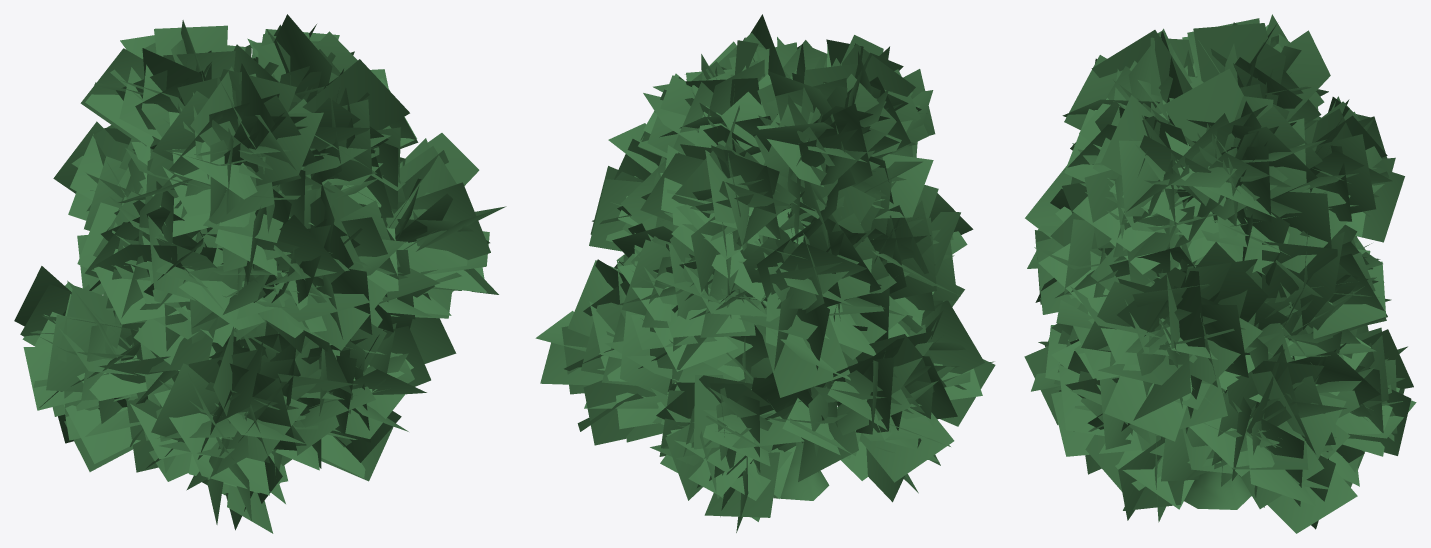
The model's file is Tree_06.fbx.
3 views of the same model, side by side, from view 1: azimuth 30°, elevation 25°; view 2: azimuth 150°, elevation 25°; view 3: azimuth 270°, elevation 25° (orthographic). The views are drawn at different scales.
Parts seen in each view (by area): view 1: Tree_6_1; view 2: Tree_6_1; view 3: Tree_6_1.
Boxes of the visible parts, <box> form: Tree_6_1: <box>14,14,506,533</box>; Tree_6_1: <box>535,14,995,532</box>; Tree_6_1: <box>1024,14,1416,533</box>.
Bounding box in the file's own units: 541 × 569 × 446.
